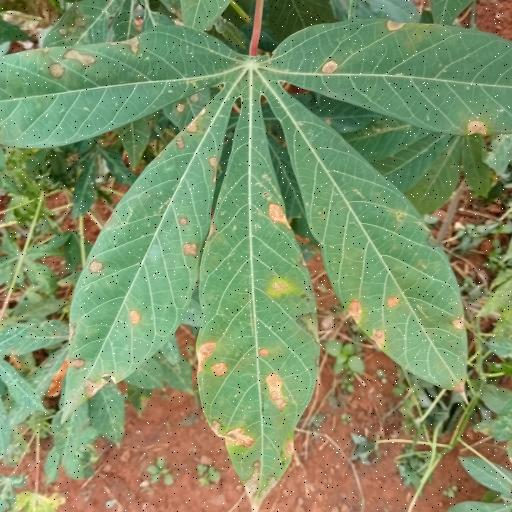Cassava_Brown_Leaf_Spot: (1, 16, 507, 500)
